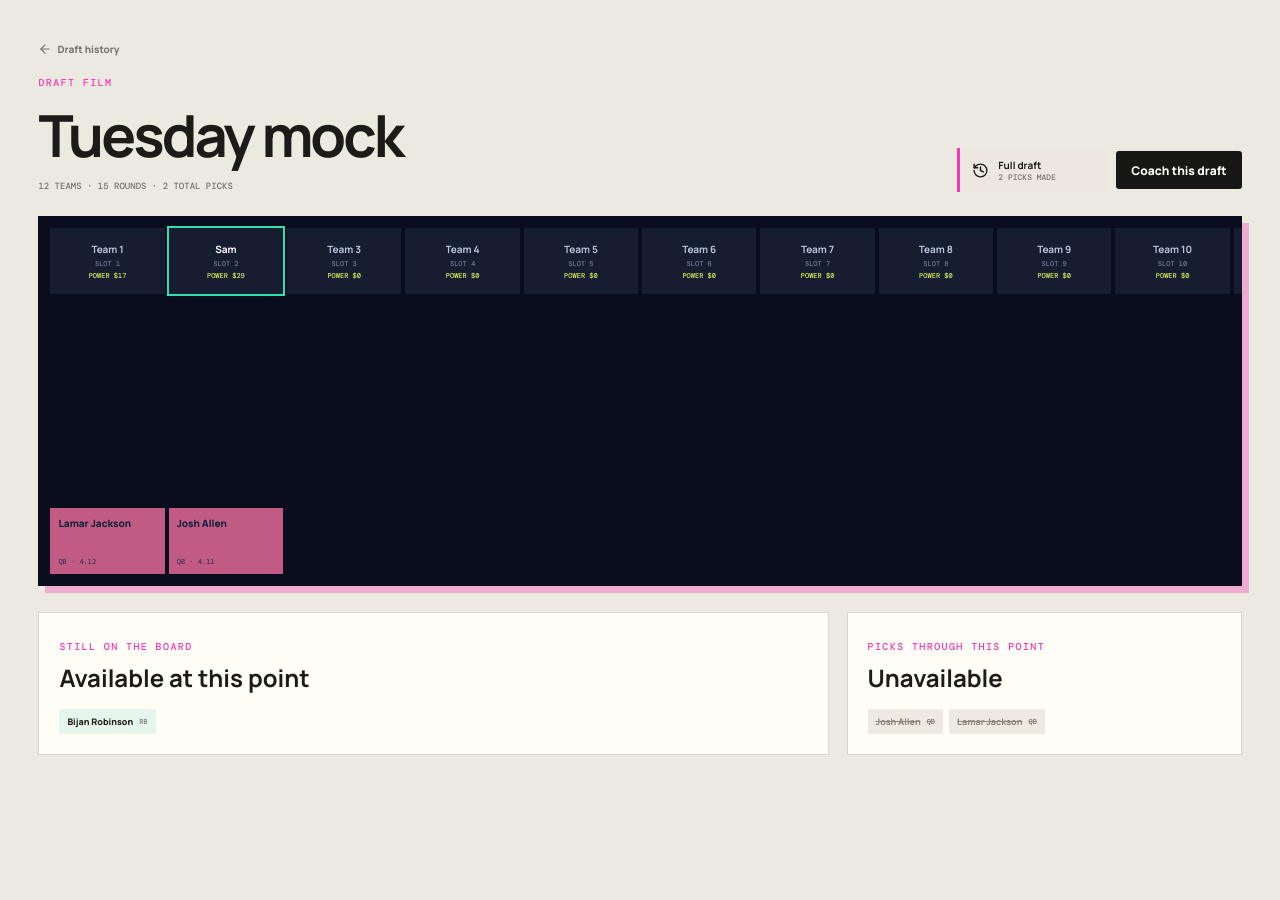
DraftDetailPage › renders the team-column draft board and jumps back to a selected pick
Expected: the heading "Tuesday mock" is shown, x1=38 y1=95 x2=402 y2=174
Click the button with aria-label "Select pick 4.11".
click(226, 541)  # box x1=169 y1=508 x2=283 y2=574
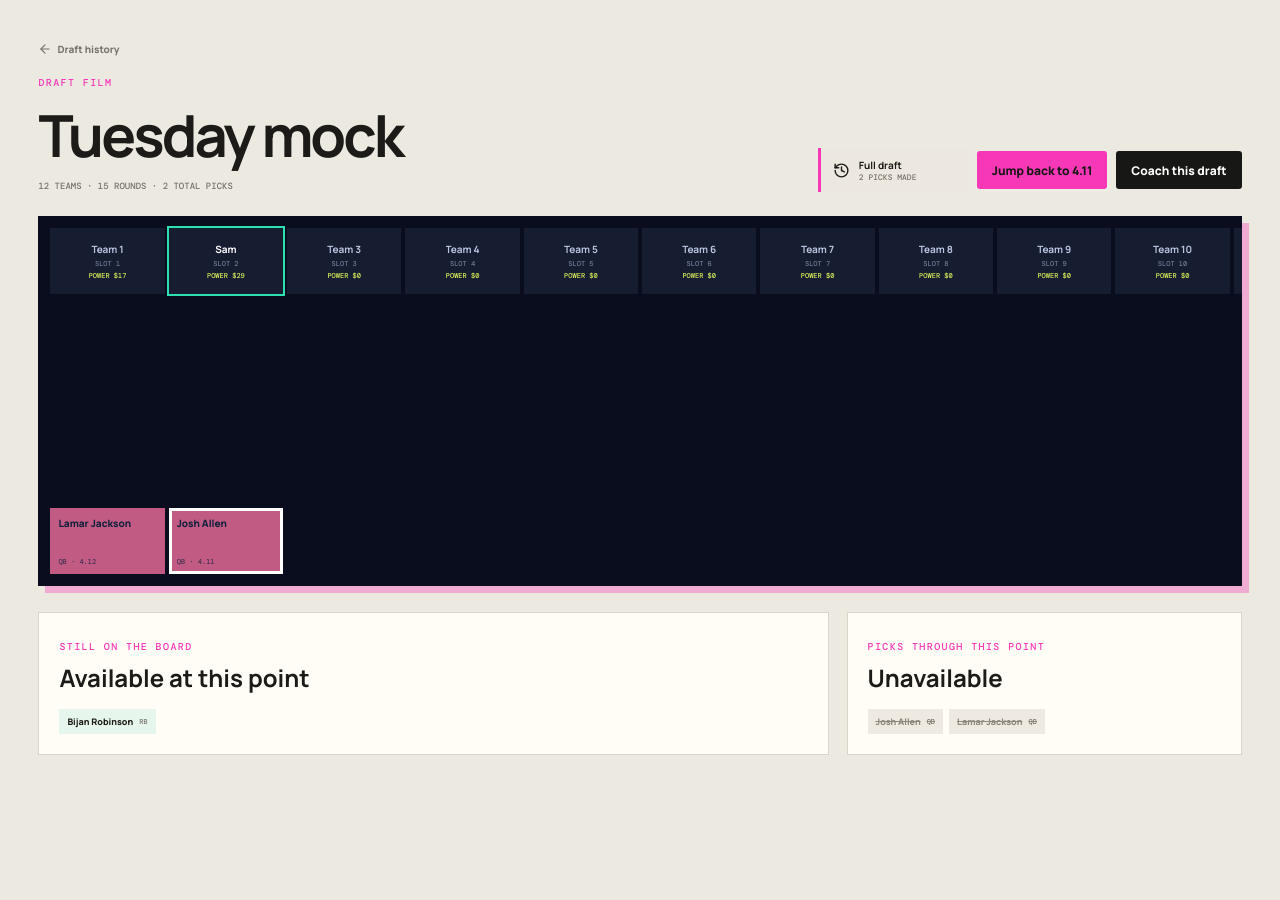
Click the button "Jump back to 4.11".
click(1042, 170)  # box x1=977 y1=151 x2=1107 y2=189
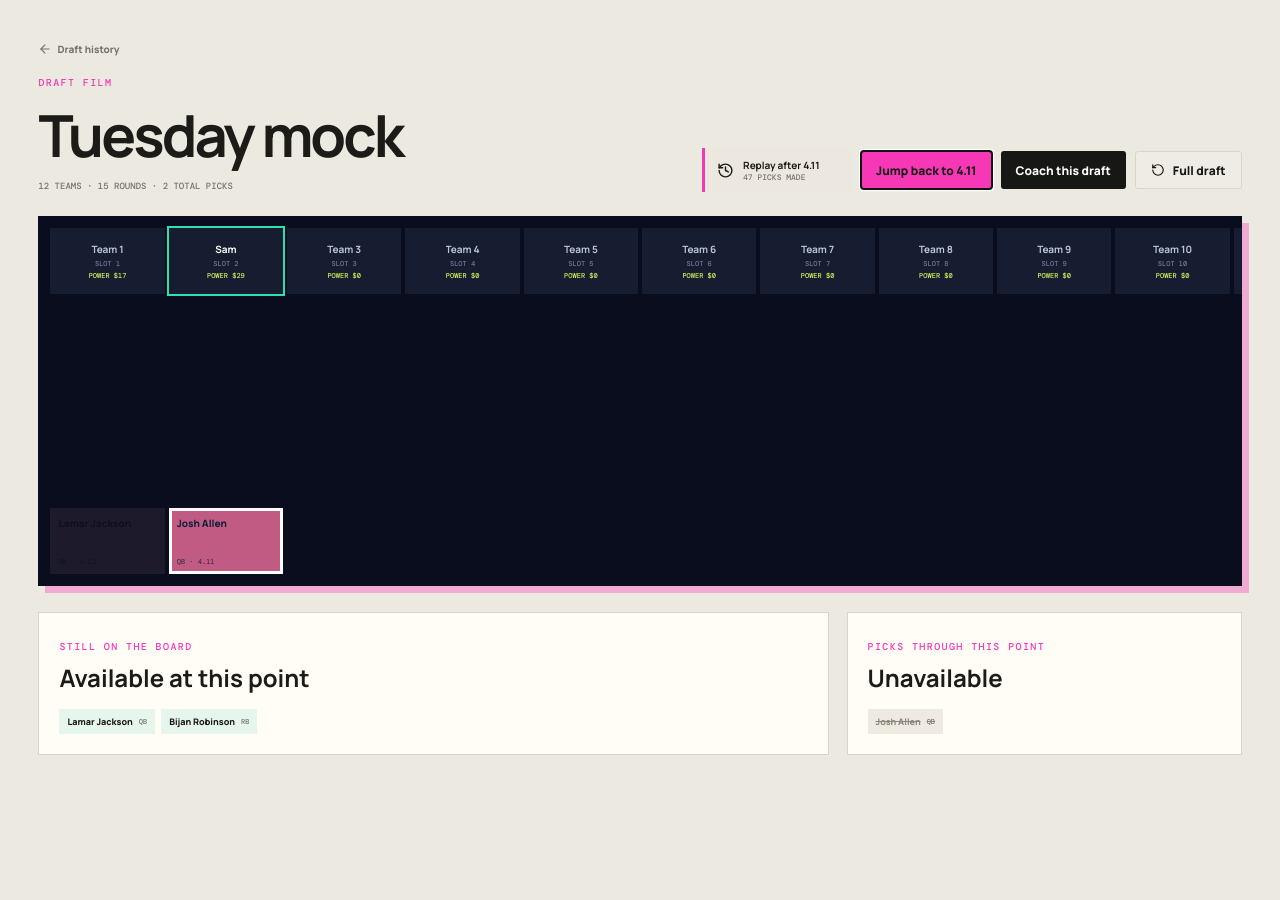
Expected: the heading "Available at this point" is shown, x1=59 y1=661 x2=310 y2=694
Expected: the text "Replay after 4.11" is shown, x1=743 y1=158 x2=820 y2=172
Expected: the text "47 picks made" is shown, x1=743 y1=172 x2=805 y2=182
